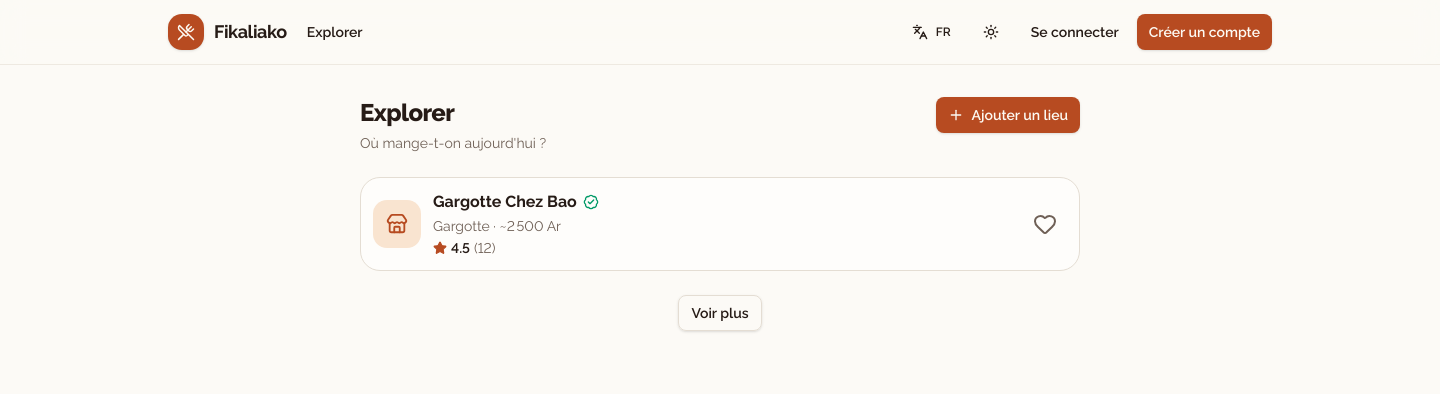
it: explore › pages through the cursor with load more
Click the button "Voir plus" at (720, 313), box x1=678 y1=295 x2=761 y2=331
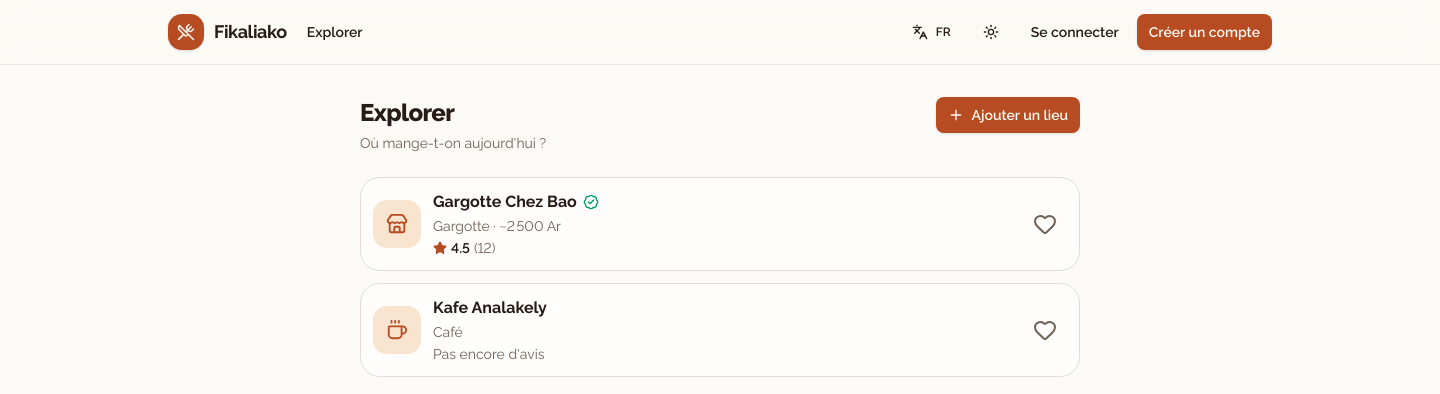
Expected: the link "Gargotte Chez Bao" is shown, x1=433 y1=190 x2=577 y2=214
Now the link "Kafe Analakely" is shown, box x1=433 y1=296 x2=547 y2=320
Now the button "Voir plus" is gone
